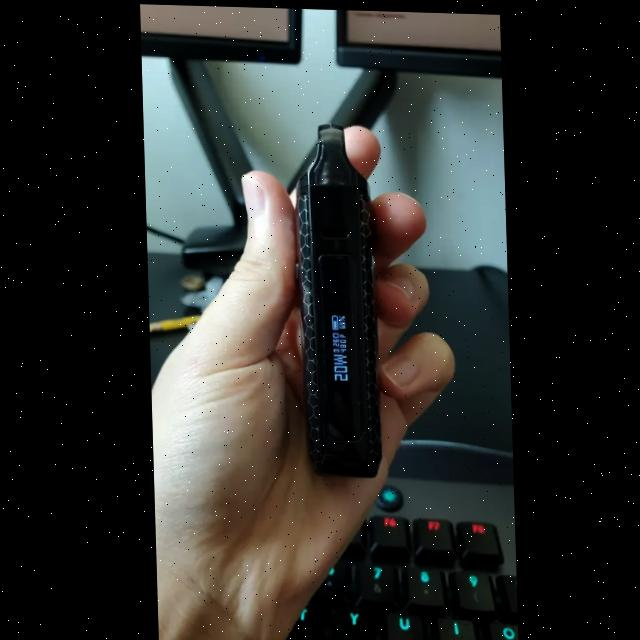vape: (297, 119, 381, 477)
